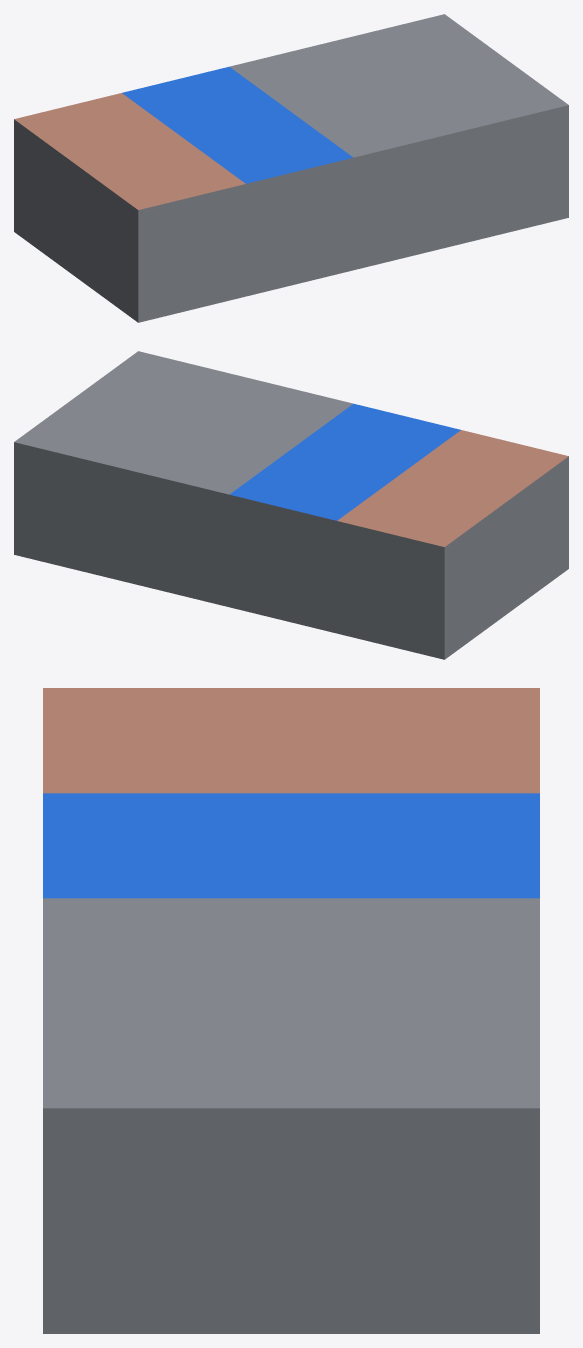
Rendered from structure-finishes.glb.
The picture shows the model from 3 angles, top to bottom: view 1: azimuth 30°, elevation 25°; view 2: azimuth 150°, elevation 25°; view 3: azimuth 270°, elevation 25°; orthographic projection. The views are drawn at different scales.
Visible parts, largest first — view 1: Finish_floor_concrete, Finish_wall_enamel, Finish_floor_granite; view 2: Finish_floor_concrete, Finish_wall_enamel, Finish_floor_granite; view 3: Finish_floor_concrete, Finish_floor_granite, Finish_wall_enamel.
Part boxes in pixels (x1,y1,x2,y2): Finish_floor_concrete: (14, 14, 568, 322); Finish_wall_enamel: (122, 66, 352, 183); Finish_floor_granite: (14, 93, 245, 209); Finish_floor_concrete: (14, 351, 568, 659); Finish_wall_enamel: (230, 403, 460, 520); Finish_floor_granite: (337, 430, 568, 546); Finish_floor_concrete: (43, 898, 539, 1333); Finish_floor_granite: (43, 688, 539, 793); Finish_wall_enamel: (43, 793, 539, 898).
Bounding box in the file's own units: 4 × 1 × 2.
